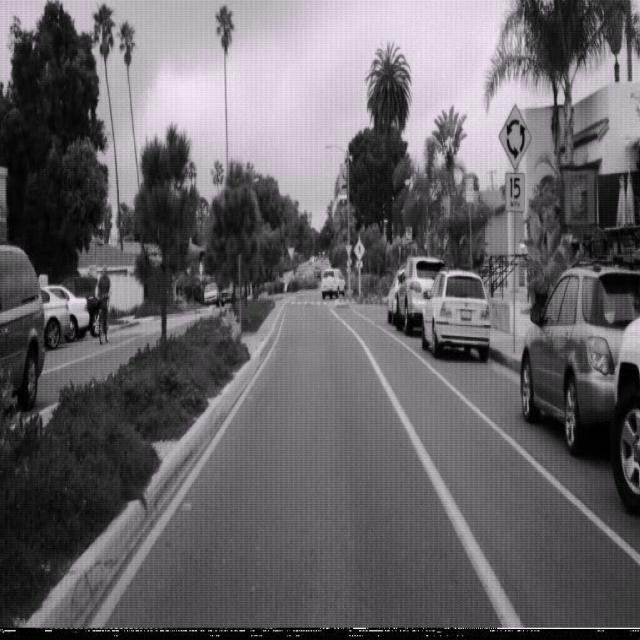pedestrianCrossing: (353, 238, 365, 260)
